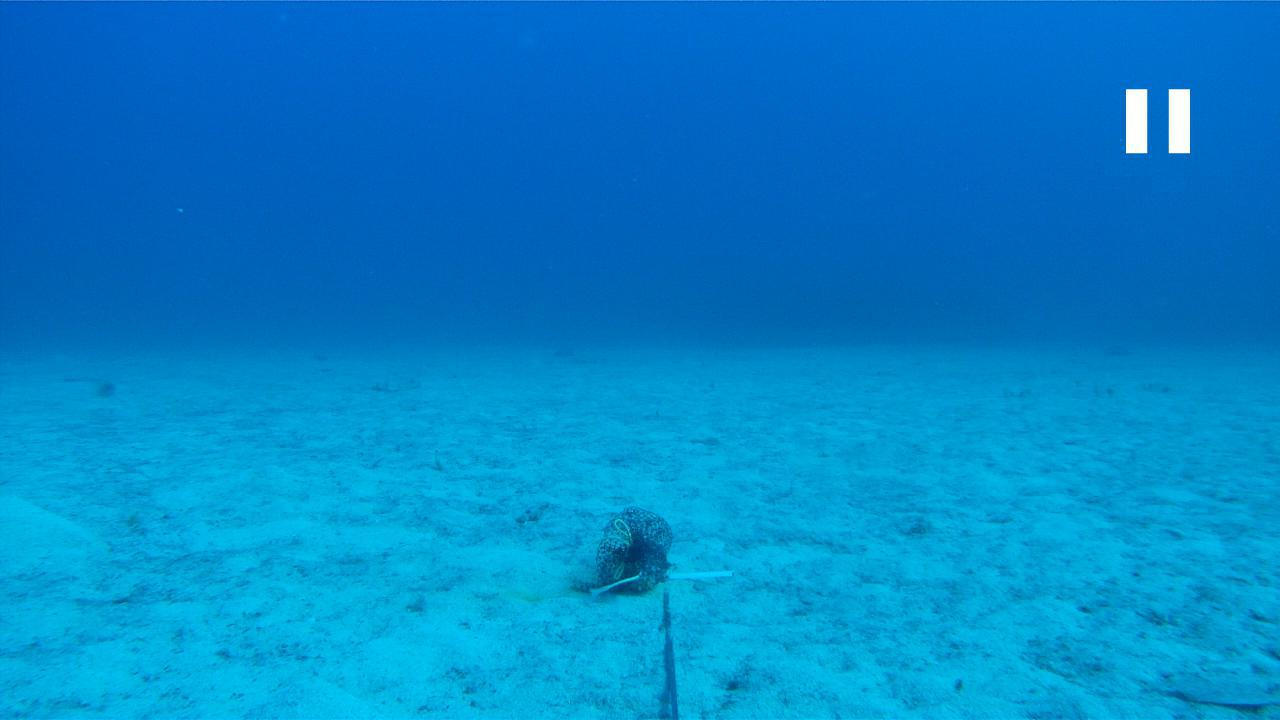bothus: (1154, 676, 1278, 711)
